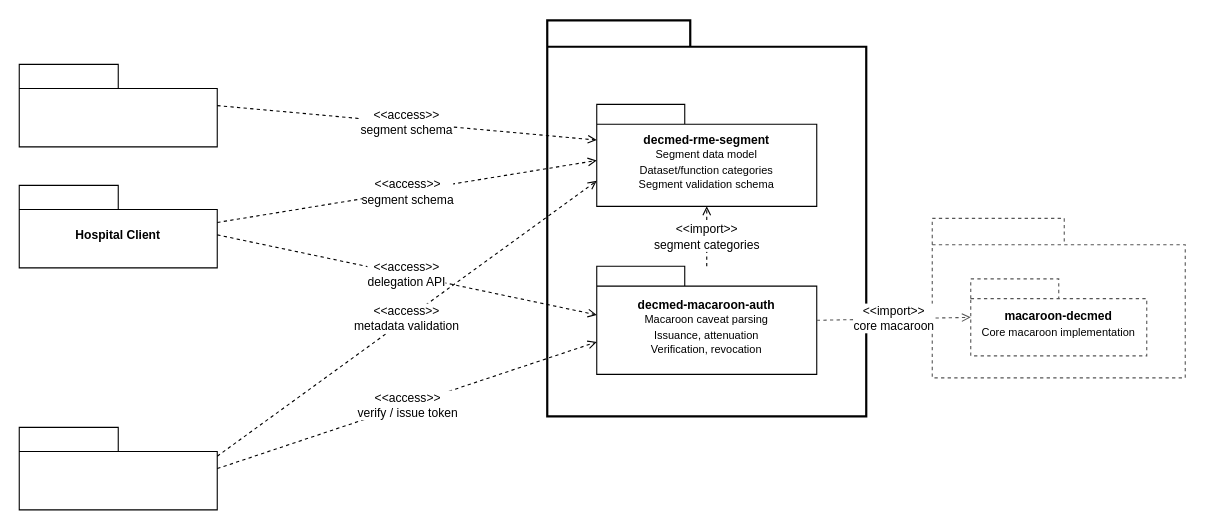
Image size: 1205x529. Some labels were removed from this diagram. Here are the shapes that lost their labels. From the top down, the centre of each, then its label:
the point at 117,105: Patient Client
the point at 117,468: PRE Server
